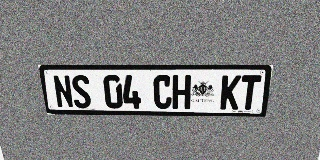0: (103, 75, 123, 108)
4: (121, 75, 141, 109)
C: (153, 75, 172, 109)
H: (172, 75, 191, 109)
K: (220, 75, 242, 110)
N: (52, 75, 74, 108)
S: (70, 75, 92, 108)
T: (239, 75, 262, 110)
